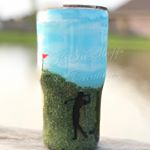cups: (32, 5, 112, 150)
